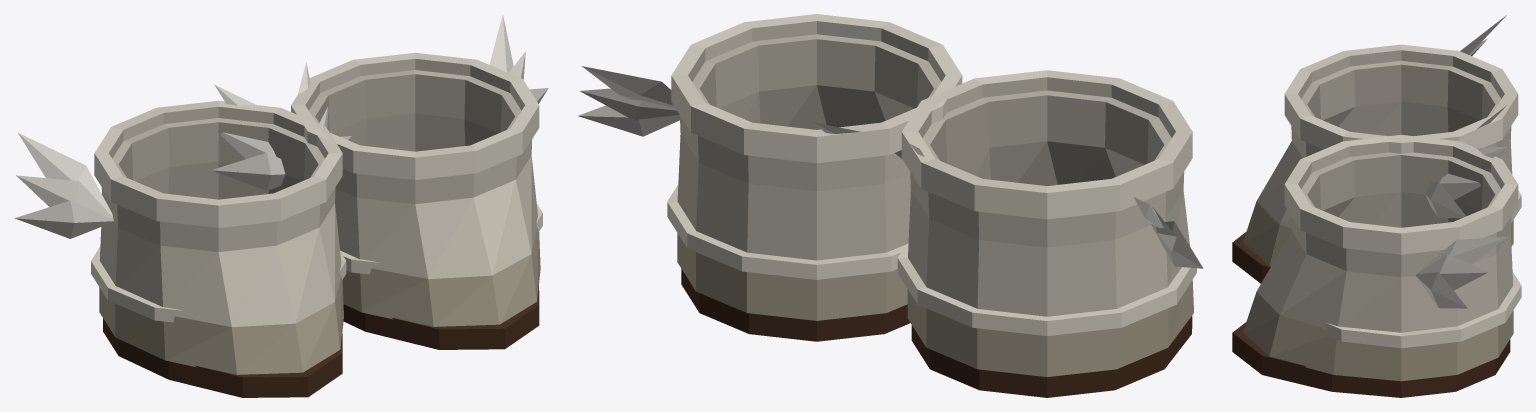
Rendered from armor_feet_winged.glb.
3 renders of one model, left to right at view 1: azimuth 30°, elevation 25°; view 2: azimuth 150°, elevation 25°; view 3: azimuth 270°, elevation 25°, orthographic. The views are drawn at different scales.
Visible parts, largest first — view 1: armor_feet_winged_R, armor_feet_winged; view 2: armor_feet_winged_R, armor_feet_winged; view 3: armor_feet_winged, armor_feet_winged_R.
Part boxes in pixels (box(x1,y1,x2,y2)): armor_feet_winged_R: box(14, 62, 351, 397); armor_feet_winged: box(211, 14, 548, 349); armor_feet_winged_R: box(812, 70, 1203, 397); armor_feet_winged: box(578, 14, 962, 341); armor_feet_winged: box(1232, 105, 1521, 397); armor_feet_winged_R: box(1232, 15, 1521, 283).
Bounding box in the file's own units: 0.87 × 0.2999 × 0.433.
